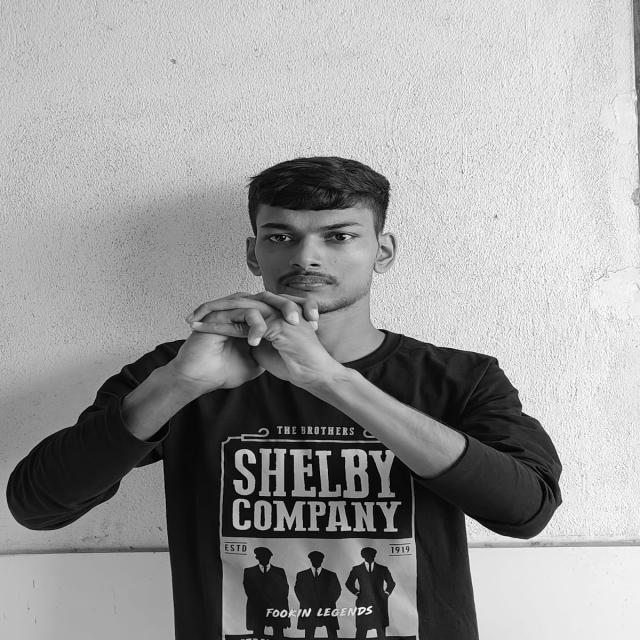Sorry: (150, 287, 353, 389)
